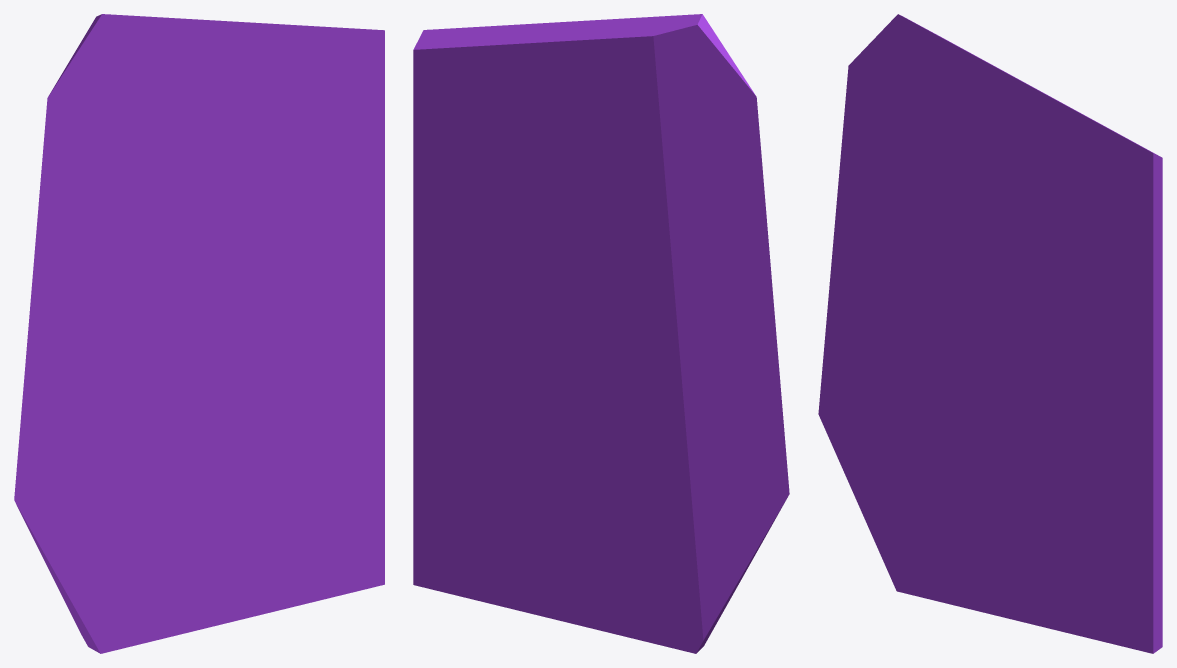
The model's file is Window_36_4_chunks.fbx.
The picture shows the model from 3 angles, left to right: view 1: azimuth 30°, elevation 25°; view 2: azimuth 150°, elevation 25°; view 3: azimuth 330°, elevation 25°; orthographic projection. The views are drawn at different scales.
Visible parts, largest first — view 1: Window_36_4_0, Window_36_4_7, Window_36_4_3, Window_36_4_2, Window_36_4_4, Window_36_4_9, Window_36_4_6, Window_36_4_8; view 2: Window_36_4_0, Window_36_4_7, Window_36_4_2, Window_36_4_3, Window_36_4_4, Window_36_4_9, Window_36_4_6, Window_36_4_8, Window_36_4_1, Window_36_4_5; view 3: Window_36_4_0, Window_36_4_7, Window_36_4_3, Window_36_4_2, Window_36_4_4, Window_36_4_9, Window_36_4_6, Window_36_4_8.
Boxes of the visible parts, x1,y1,x2,y2 form: Window_36_4_0: [14, 323, 295, 653]; Window_36_4_7: [233, 282, 384, 606]; Window_36_4_3: [28, 164, 236, 334]; Window_36_4_2: [39, 14, 252, 200]; Window_36_4_4: [186, 22, 375, 243]; Window_36_4_9: [308, 29, 384, 286]; Window_36_4_6: [186, 277, 297, 444]; Window_36_4_8: [216, 134, 321, 306]; Window_36_4_0: [499, 324, 789, 653]; Window_36_4_7: [413, 296, 555, 605]; Window_36_4_2: [548, 14, 764, 198]; Window_36_4_3: [561, 180, 775, 330]; Window_36_4_4: [431, 22, 600, 249]; Window_36_4_9: [413, 29, 508, 300]; Window_36_4_6: [483, 249, 601, 458]; Window_36_4_8: [499, 168, 560, 271]; Window_36_4_1: [574, 269, 633, 339]; Window_36_4_5: [586, 154, 638, 210]; Window_36_4_0: [818, 271, 1072, 633]; Window_36_4_7: [1016, 357, 1162, 653]; Window_36_4_3: [831, 155, 1019, 329]; Window_36_4_2: [841, 14, 1037, 185]; Window_36_4_4: [973, 88, 1145, 280]; Window_36_4_9: [1084, 148, 1162, 382]; Window_36_4_6: [974, 302, 1073, 460]; Window_36_4_8: [1000, 213, 1095, 364].
Bounding box in the file's own units: 564 × 929 × 27.2.
